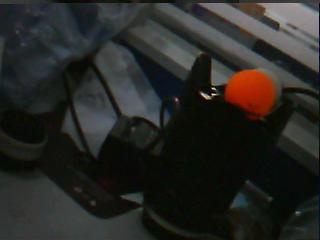oball: (224, 70, 275, 117)
